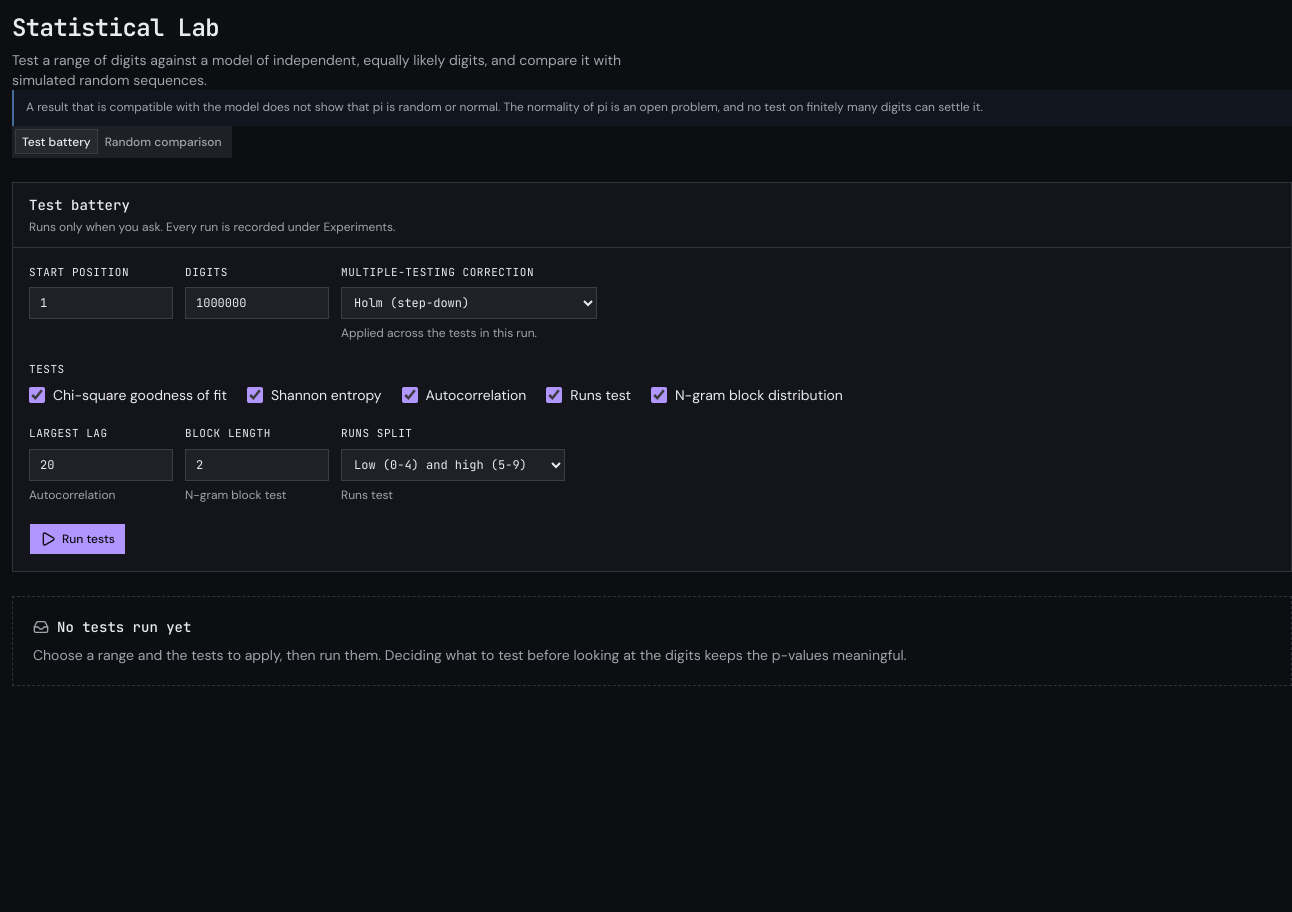
LabView test battery › requires at least one test
The width and height of the screenshot is (1292, 912).
What coordinates should you click on to do the following:
click the checkbox labelled "Chi-square goodness of fit"
I would click on:
 (37, 395)
Its box is [29,387,45,403].
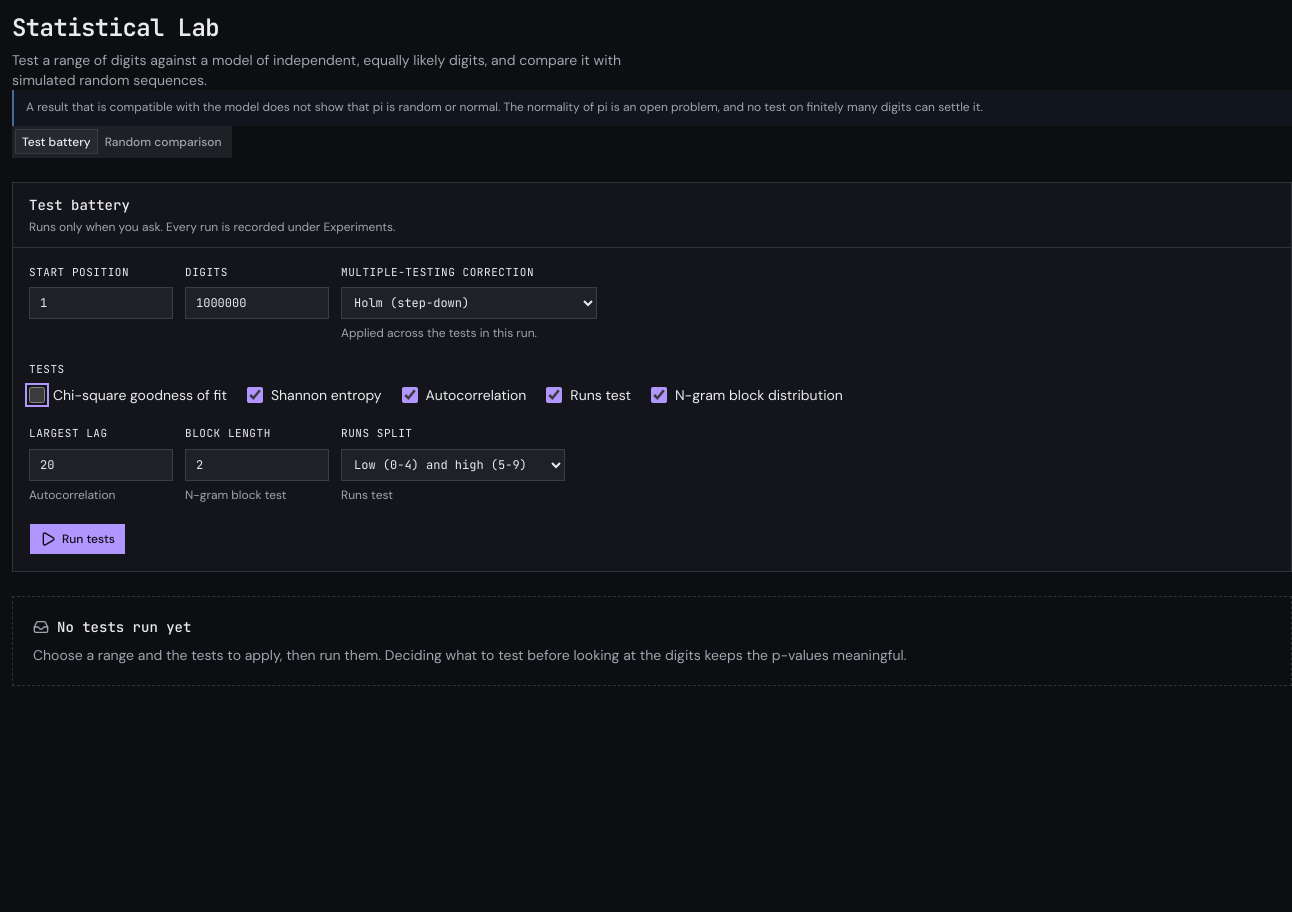
What coordinates should you click on to do the following:
click the checkbox labelled "Shannon entropy"
I would click on:
 (255, 395)
Its box is [247,387,263,403].
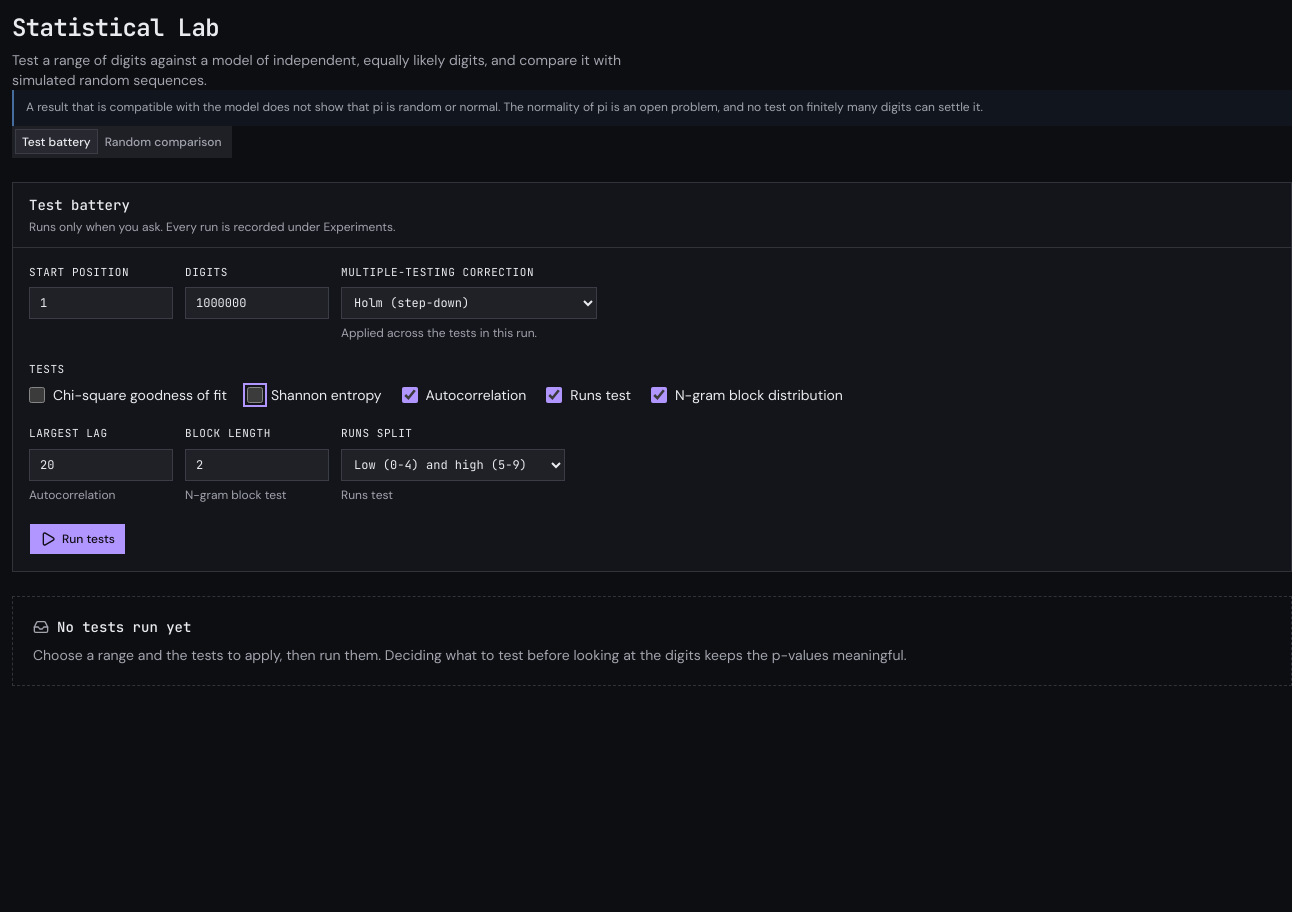
What coordinates should you click on to do the following:
click the checkbox labelled "Autocorrelation"
I would click on:
 (410, 395)
Its box is [402,387,418,403].
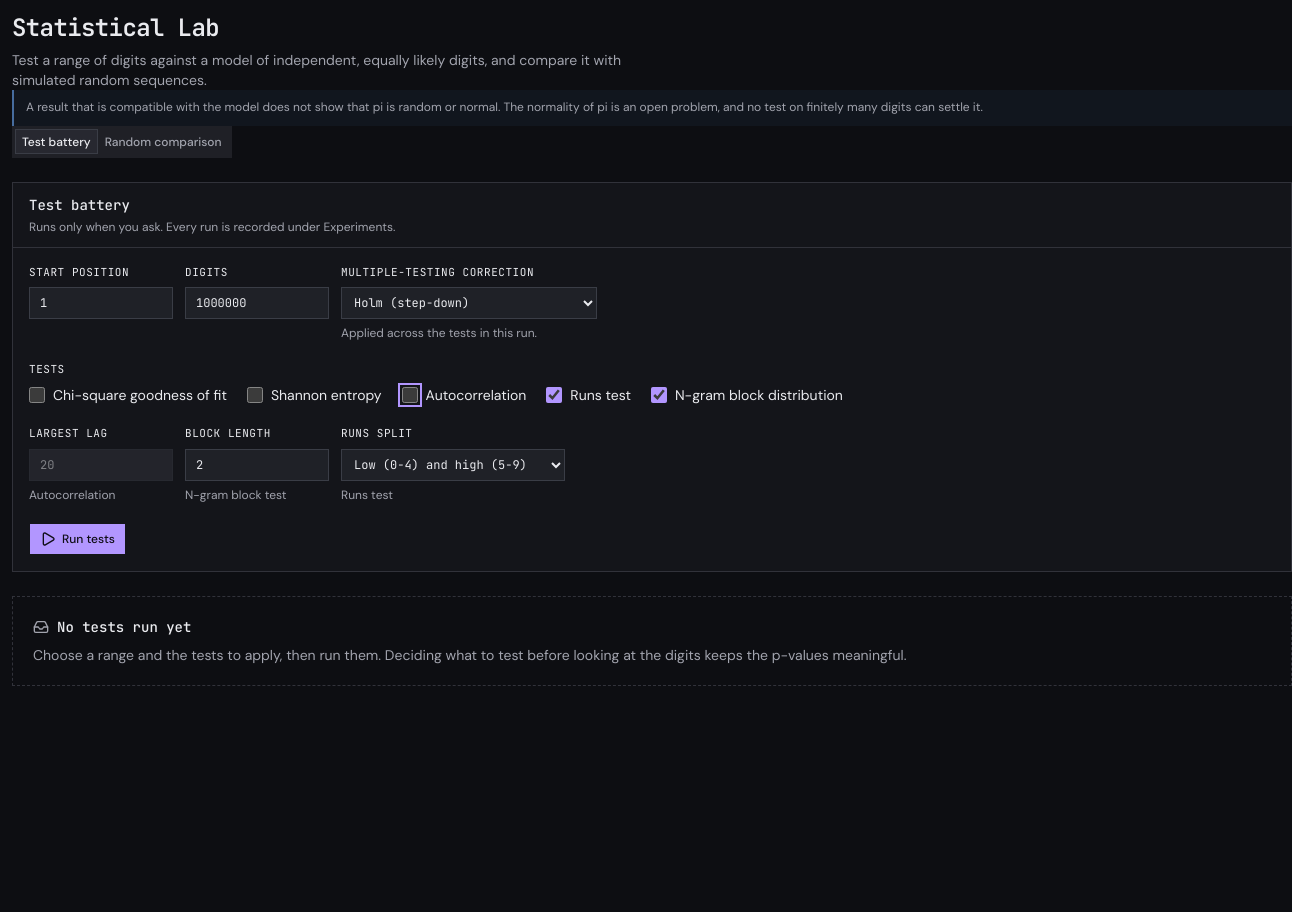
What coordinates should you click on to do the following:
click the checkbox labelled "Runs test"
I would click on:
 (554, 395)
Its box is [546,387,562,403].
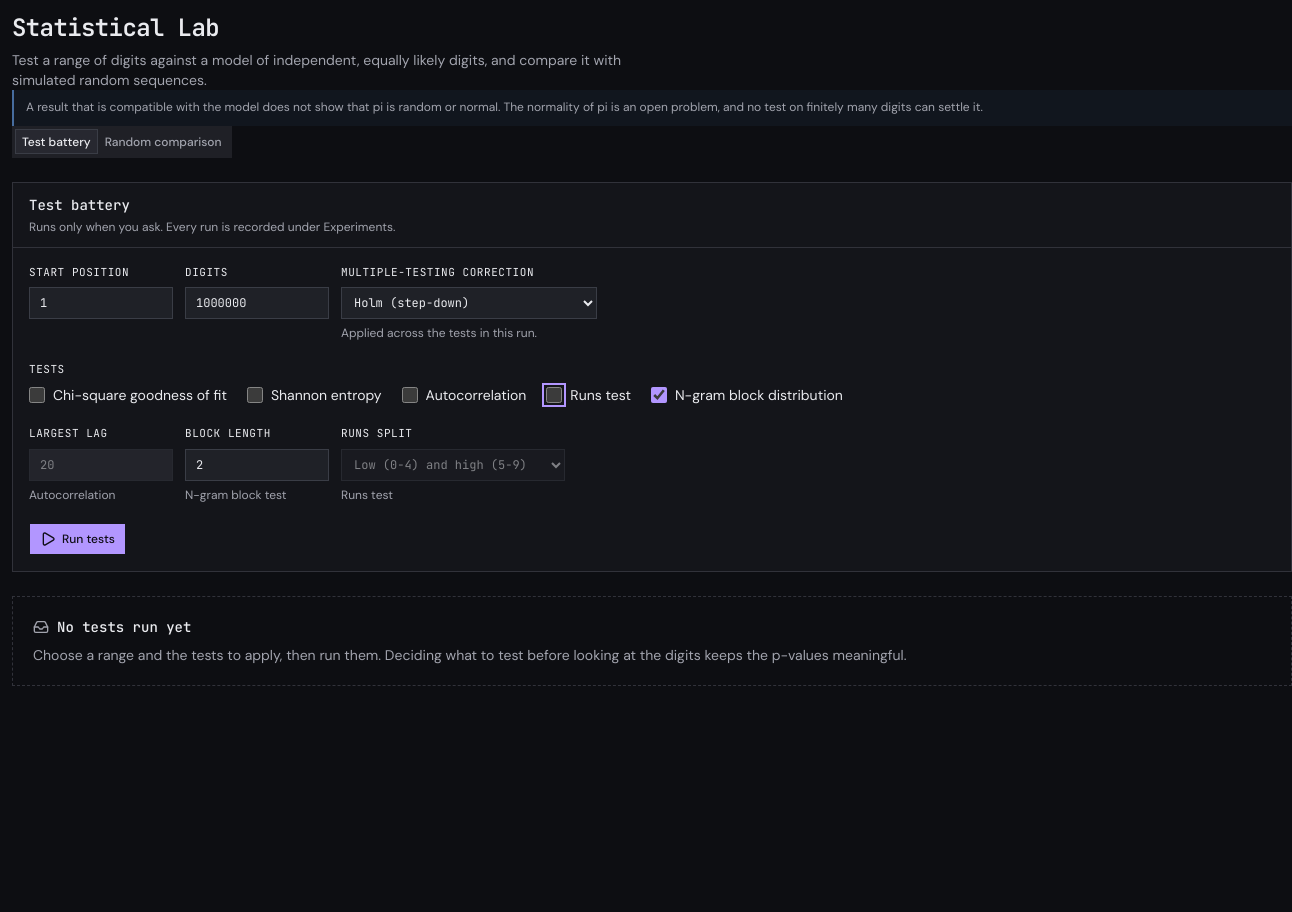
What coordinates should you click on to do the following:
click the checkbox labelled "N-gram block distribution"
I would click on:
 (659, 395)
Its box is [651,387,667,403].
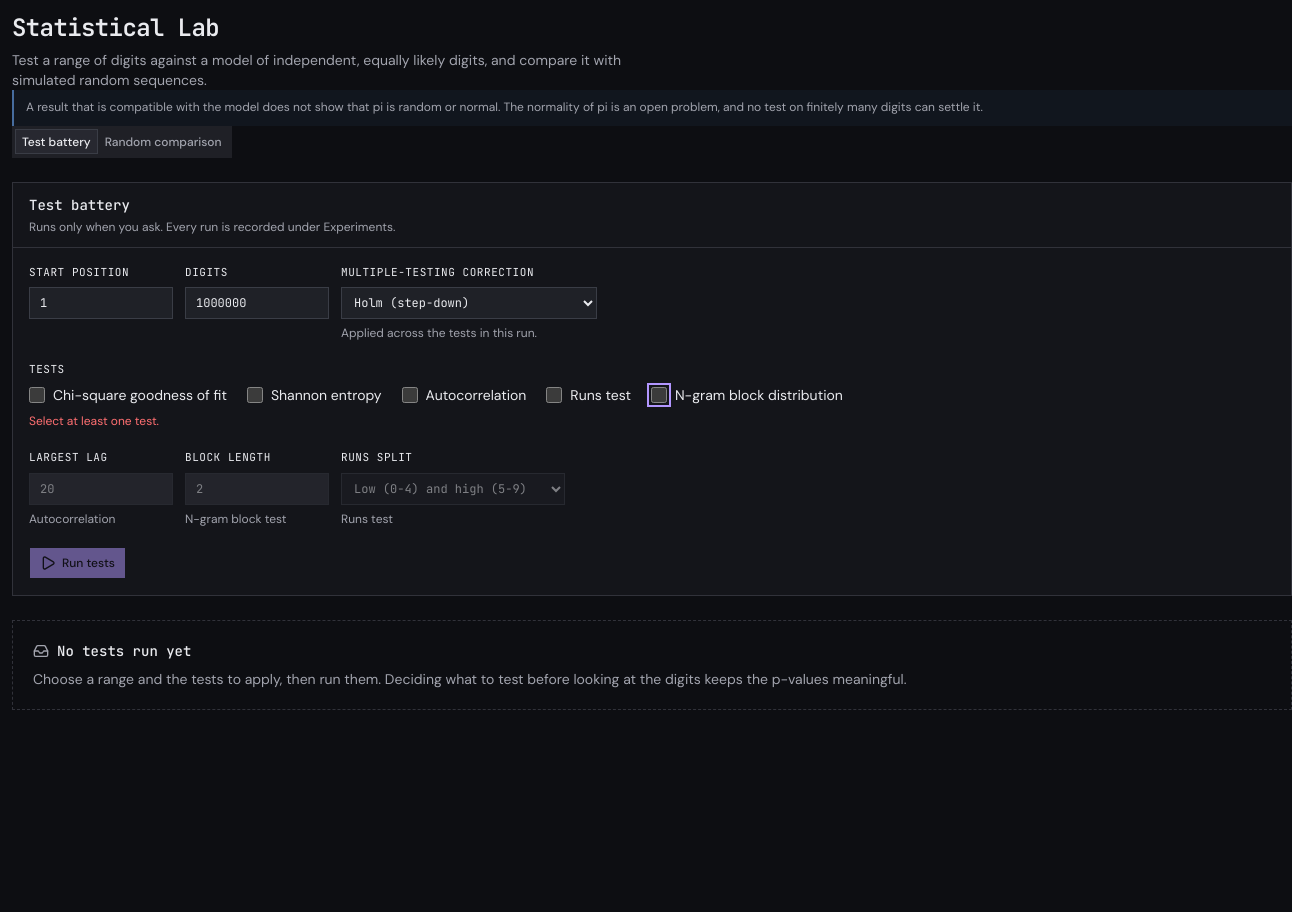
Check: the message "Select at least one test." is shown, box [29,413,159,429]
Check: the button "Run tests" is disabled, box [29,547,126,579]
